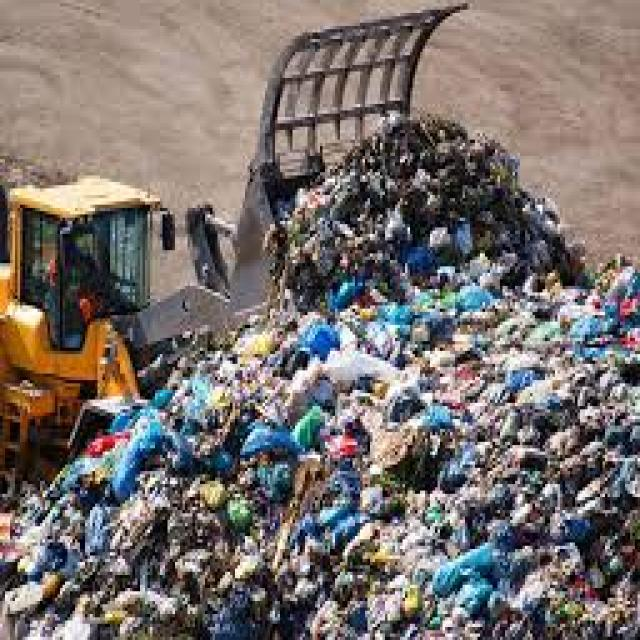plastic: (264, 264, 626, 635)
